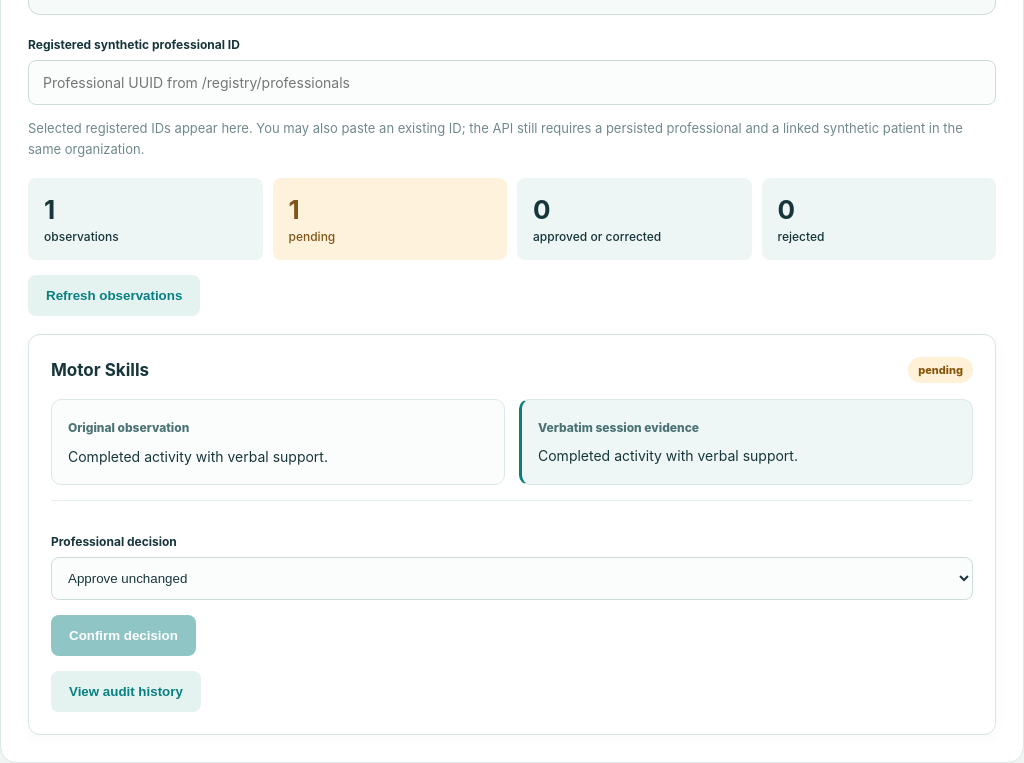
Test: audit history request lifecycle › recovers from a stalled response headers and permits retry
(page scrolled)
Click the button "View audit history" at (126, 692), box left=51, top=671, right=201, bottom=712
Wait 15000 ms
(page scrolled)
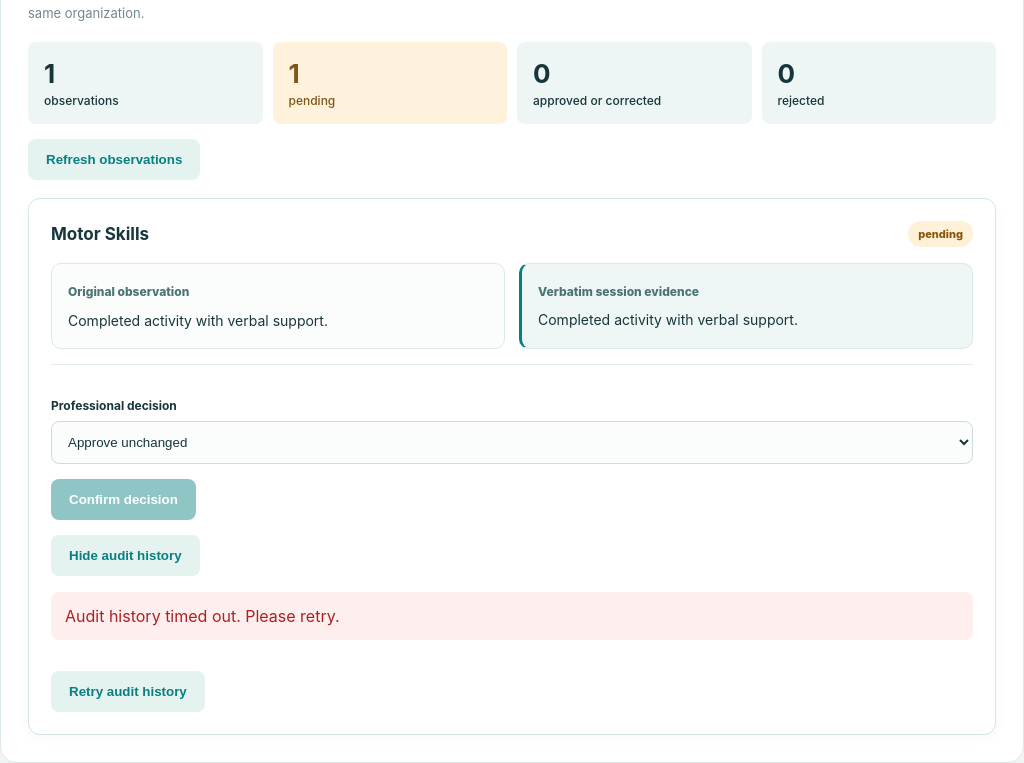
Check: the text "Loading audit history..." is not shown
Check: the message shows "timed out", box left=65, top=606, right=340, bottom=626
Click the button "Retry audit history" at (128, 692), box left=51, top=671, right=205, bottom=712
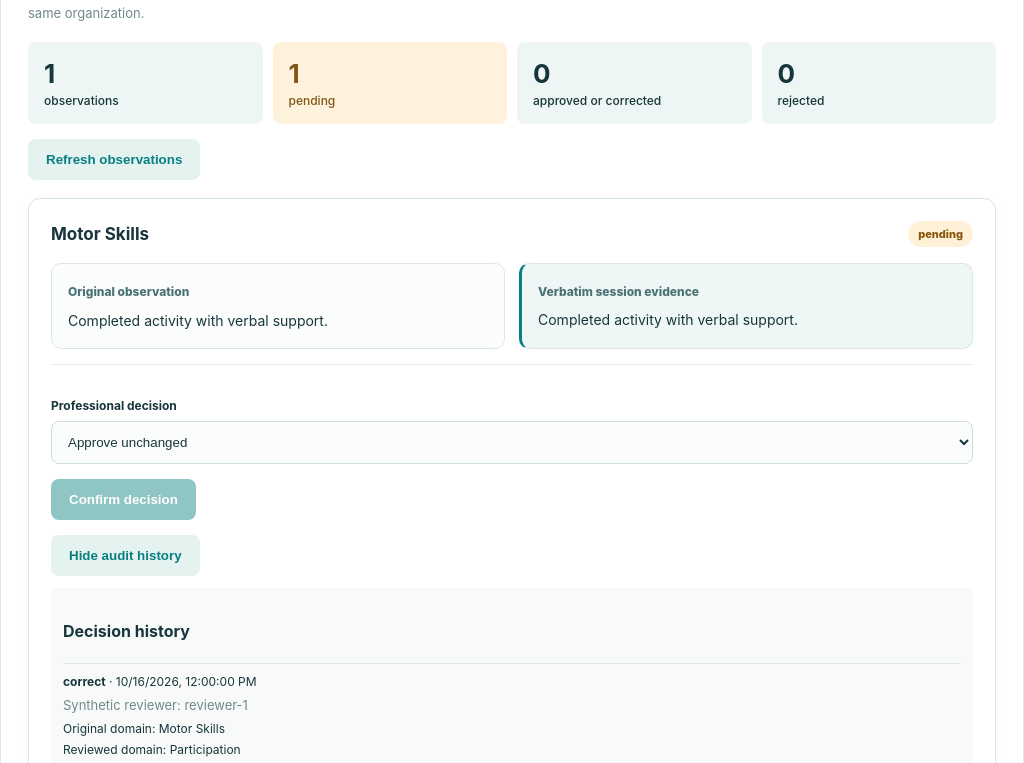
Check: the text "Reviewed domain: Participation" is shown, box left=63, top=742, right=241, bottom=757
Check: the message "Audit history timed out. Please retry." is gone
